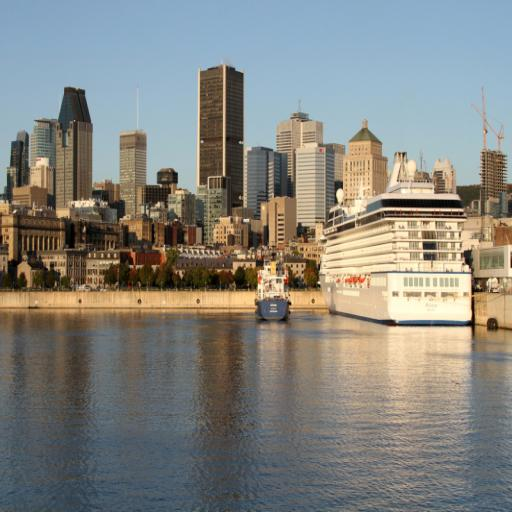cruises: (317, 150, 475, 333)
